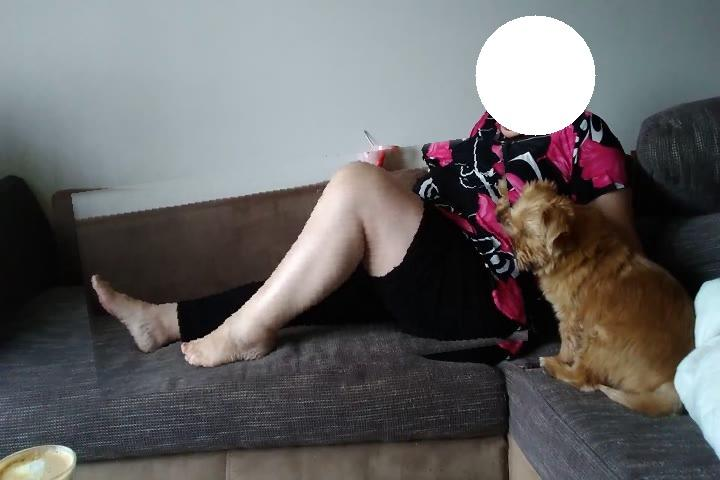lowerbody: (78, 149, 523, 387)
